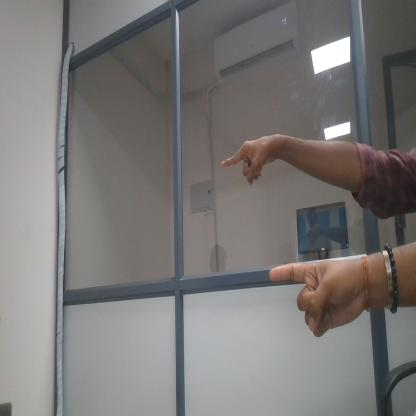Right: (262, 245, 369, 340), (217, 133, 284, 189)
